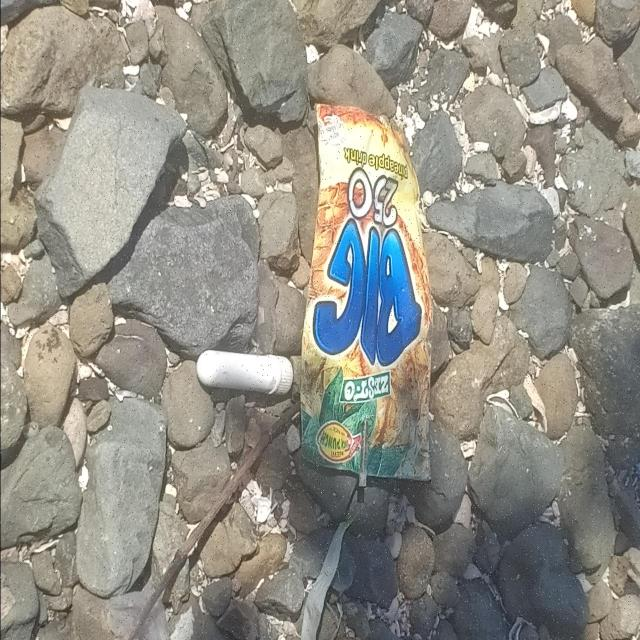plastic_waste: (300, 103, 434, 485)
